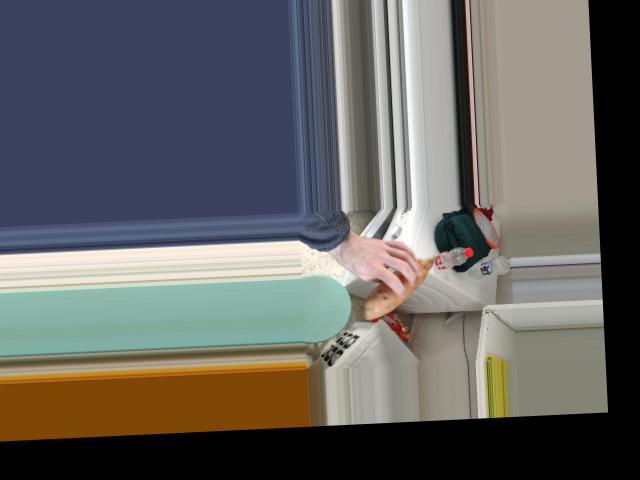sweet_potato: (370, 242, 433, 317)
